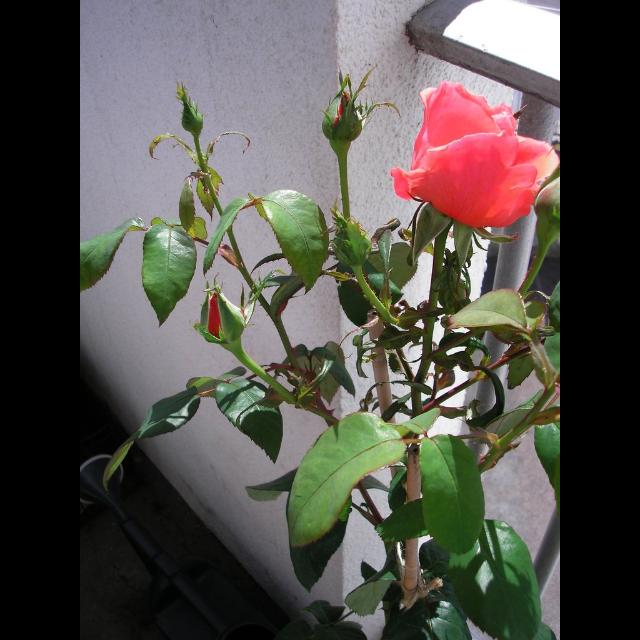Flower: (390, 92, 552, 224), (193, 290, 249, 342), (320, 89, 362, 139)
